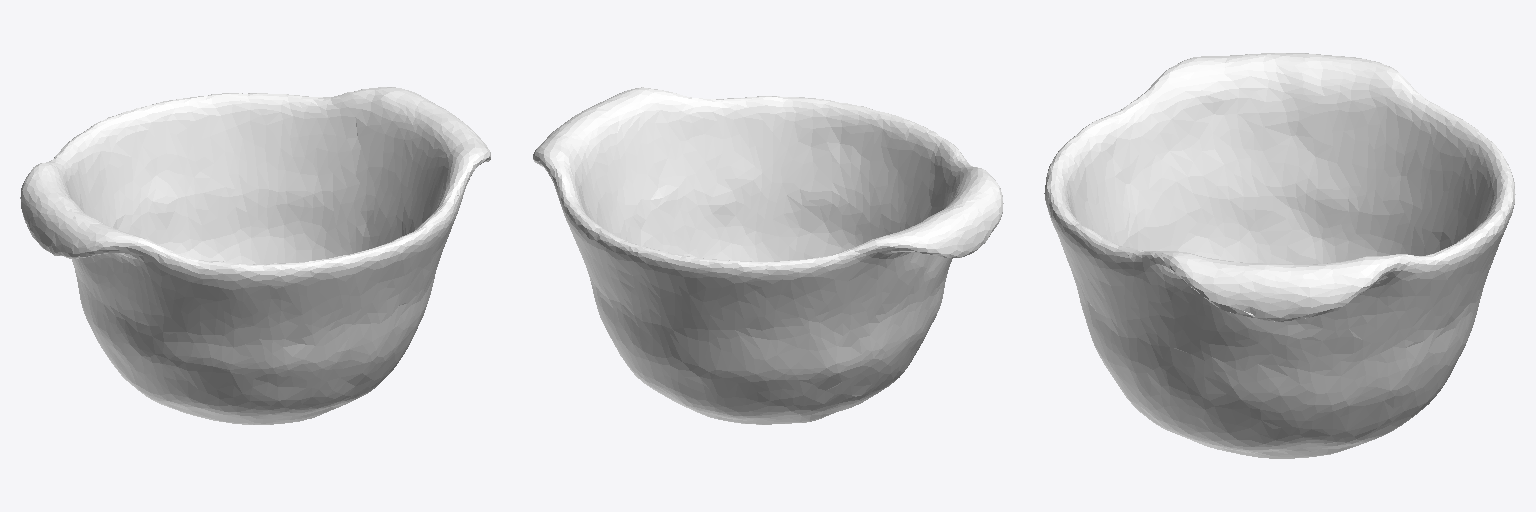
robot.urdf — containerB:
<robot name="containerB">
	<link name="_name">
		<visual>
			<origin rpy="0 0 0" xyz="1.6281896159420108e-03 8.6037972980616e-04 -5.011170636862517e-03" />
			<geometry>
				<mesh filename="containerB/containerB.obj" scale="1 1 1" />
			</geometry>
			<material name="texture">
				<color rgba="1.0 1.0 1.0 1.0" />
			</material>
		</visual>
		<collision>
			<geometry>
				<mesh filename="containerB/containerB_vhacd.obj" scale="1 1 1" />
			</geometry>
		<origin rpy="0 0 0" xyz="1.6281896159420108e-03 8.6037972980616e-04 -5.011170636862517e-03" /></collision>
		<inertial>
			<mass value="0.2" />
			<inertia ixx="1.0" ixy="0.0" ixz="0.0" iyy="1.0" iyz="0.0" izz="1.0" />
		</inertial>
	</link>
</robot>

--- What the picture shows (computed from the rendered views, not written in the file) ---
The picture shows the robot from 3 angles, left to right: view 1: azimuth 30°, elevation 25°; view 2: azimuth 150°, elevation 25°; view 3: azimuth 270°, elevation 25°; orthographic projection.
Model containerB with 1 links and 0 joints (none), rooted at _name, posed every joint at zero.
Links seen in each view (by area): view 1: _name; view 2: _name; view 3: _name.
Boxes of the visible links, <box> form: _name: <box>20,87,490,424</box>; _name: <box>533,87,1003,424</box>; _name: <box>1044,53,1515,458</box>.
Bounding box of the posed robot: 0.2768 × 0.2358 × 0.145 m (x, y, z).
1 mesh visuals loaded from 1 distinct referenced files (1 OBJ).